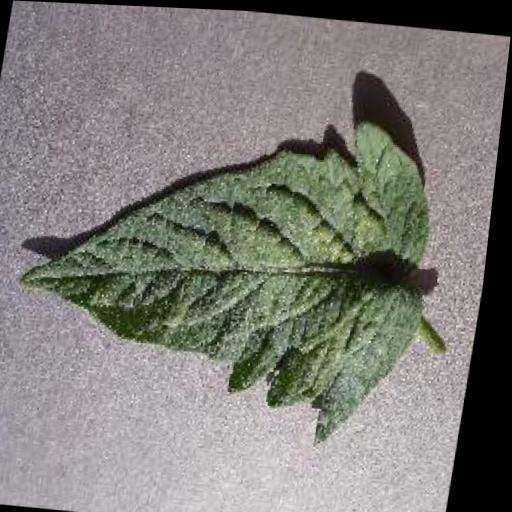Spider Mites: (1, 83, 455, 447)
